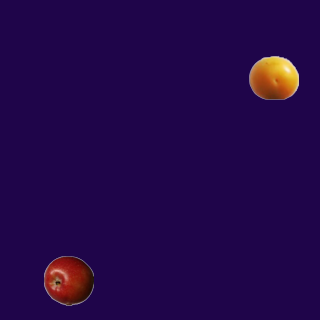Apple Braeburn: (43, 255, 93, 305)
Cherry Wax Yellow: (248, 52, 298, 102)
